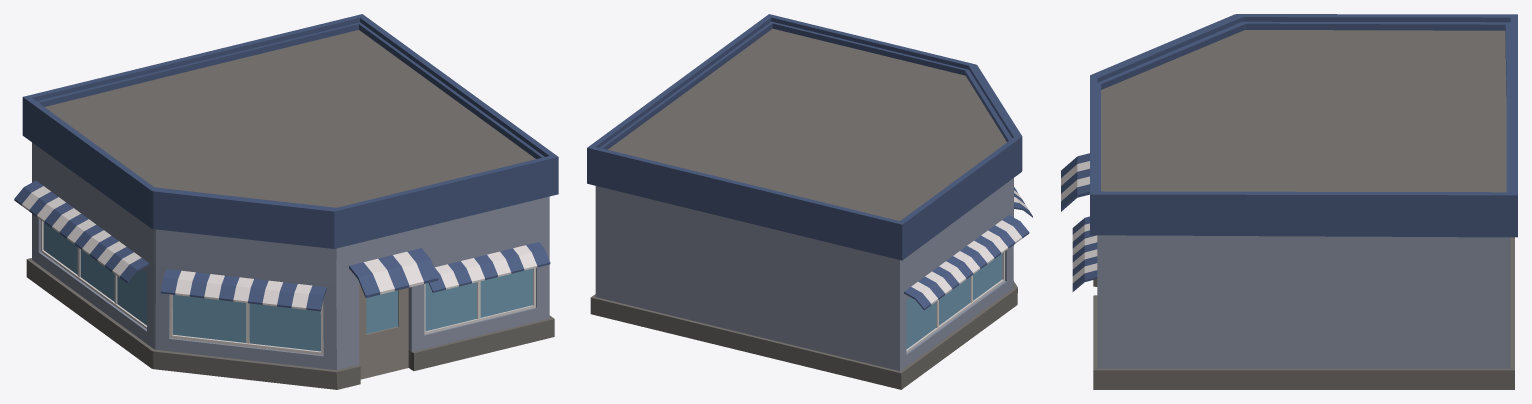
The model's file is House_14.fbx.
The picture shows the model from 3 angles, left to right: view 1: azimuth 30°, elevation 25°; view 2: azimuth 150°, elevation 25°; view 3: azimuth 270°, elevation 25°; orthographic projection. The views are drawn at different scales.
Parts seen in each view (by area): view 1: House_14; view 2: House_14; view 3: House_14.
Boxes of the visible parts, x1,y1,x2,y2 form: House_14: (14,14,558,389); House_14: (587,14,1032,389); House_14: (1061,14,1517,389).
Bounding box in the file's own units: 14.77 × 7.16 × 15.07.
